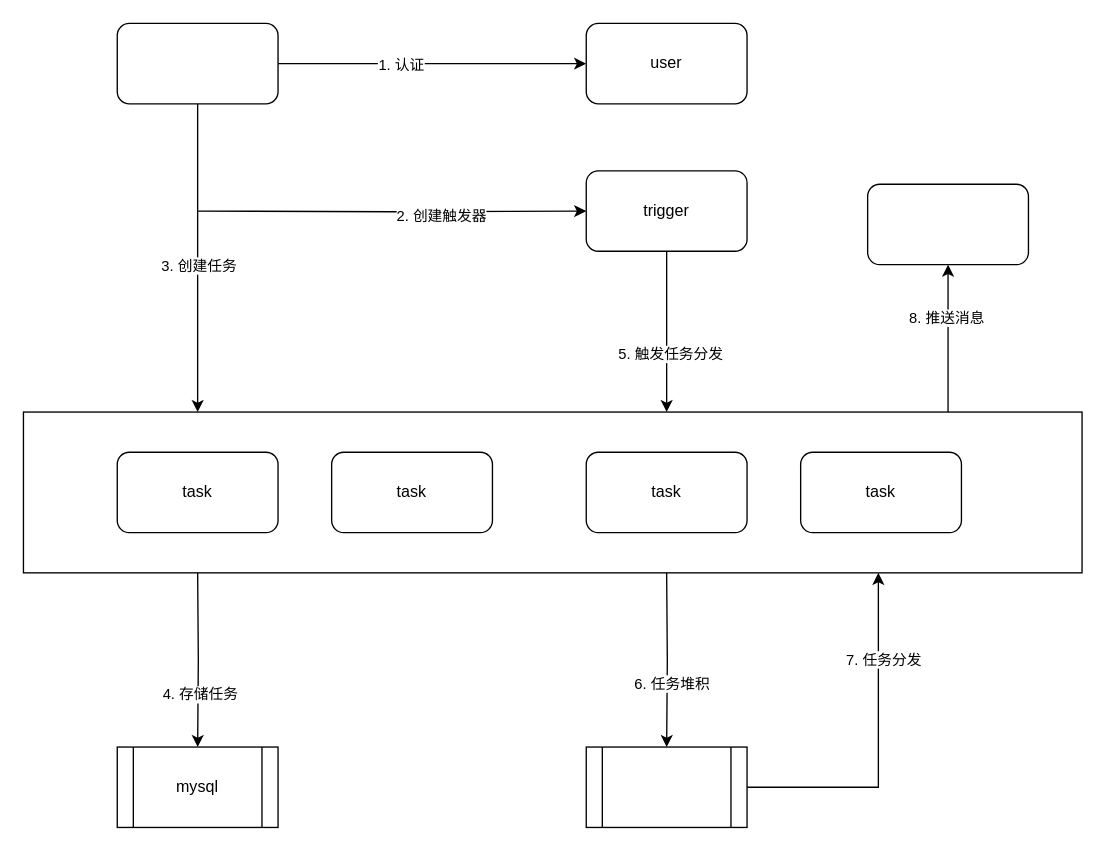
The diagram is 1106 pixels wide and 851 high, and some of its shapes have lost their labels. The centre of each missing label's shape, as x and y in pixels:
app: point 197,63
mq: point 666,786
notice: point 947,224
